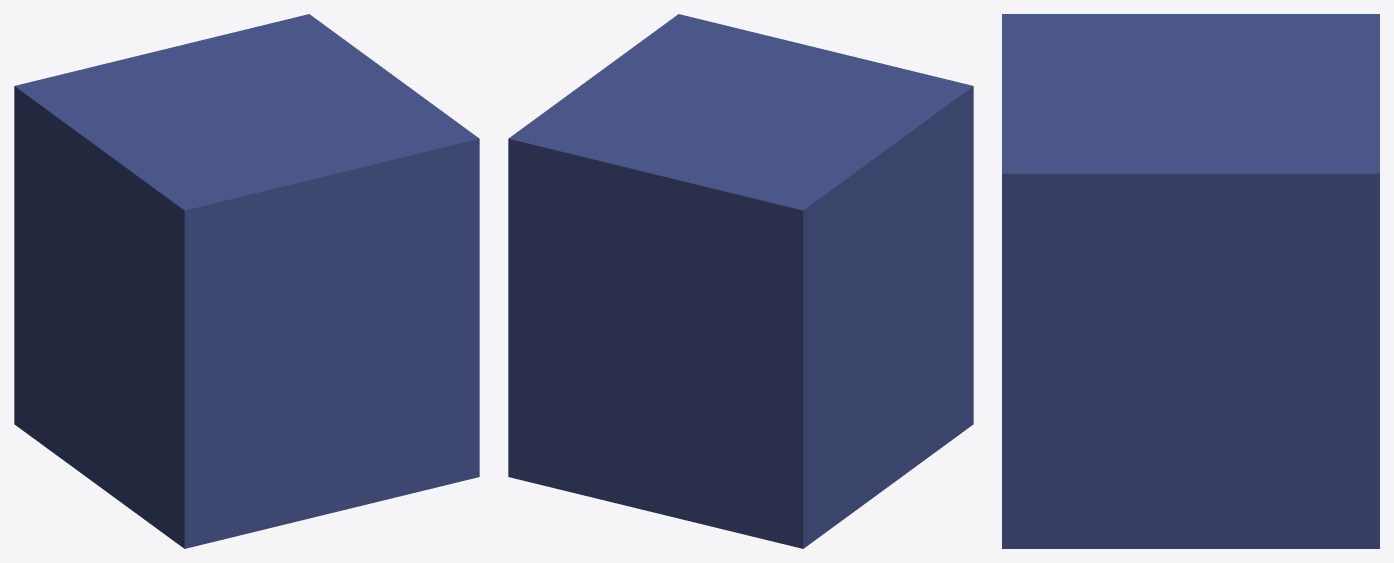
Rendered from piloto_comercial_canela.glb.
3 renders of one model, left to right at view 1: azimuth 30°, elevation 25°; view 2: azimuth 150°, elevation 25°; view 3: azimuth 270°, elevation 25°, orthographic. The views are drawn at different scales.
Parts seen in each view (by area): view 1: piloto_comercial_canela; view 2: piloto_comercial_canela; view 3: piloto_comercial_canela.
Boxes of the visible parts, x1,y1,x2,y2 form: piloto_comercial_canela: (14,14,479,548); piloto_comercial_canela: (508,14,973,548); piloto_comercial_canela: (1002,14,1379,548).
Size of the model in its own units: 0.26 by 0.285 by 0.26.
